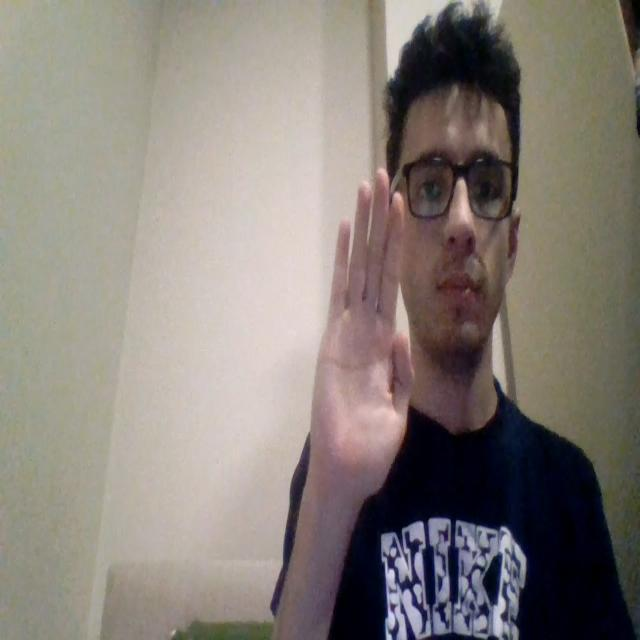hello: (307, 165, 415, 507)
